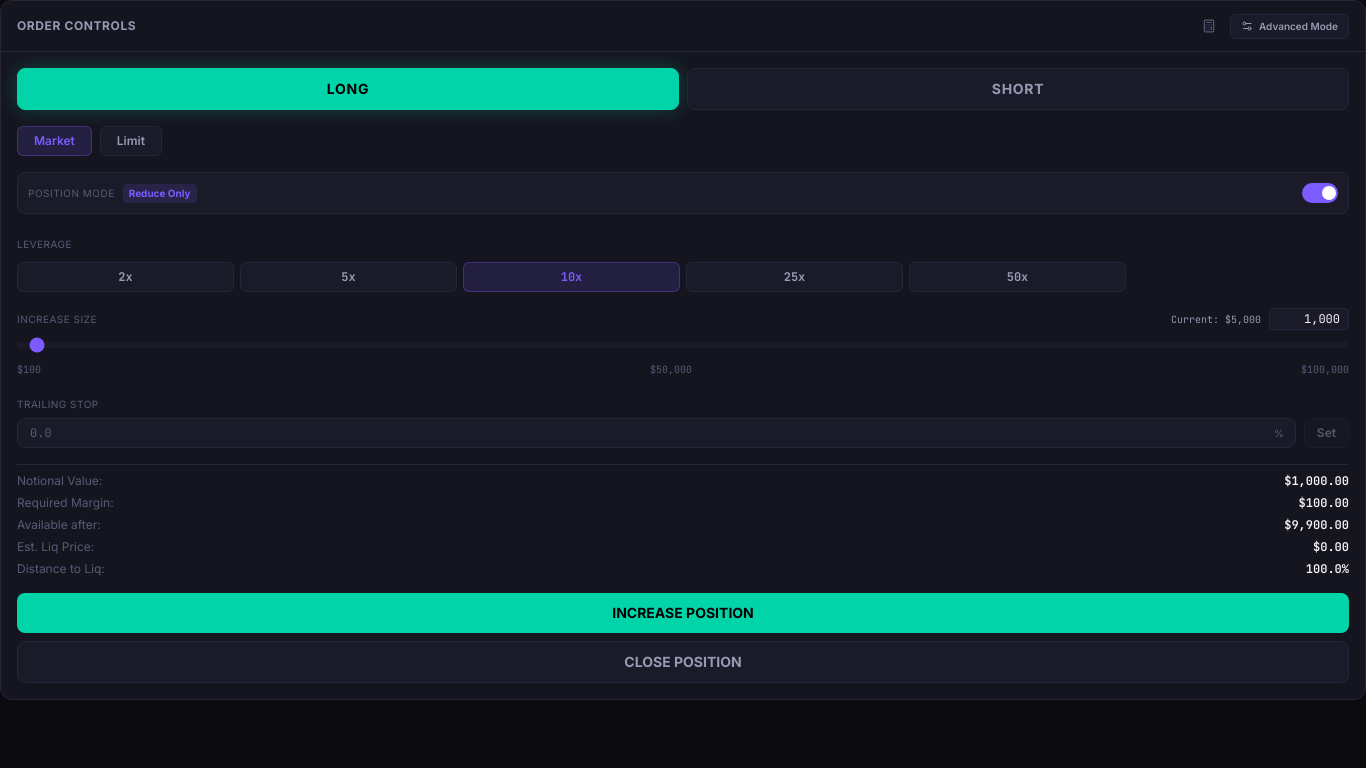
TradeControls — slider and position labels › manual size input updates position size and slider
Replace the text in the field with test id "trade-controls-size-input" with "2500" at point(1309, 319), box [1269,308,1349,330]
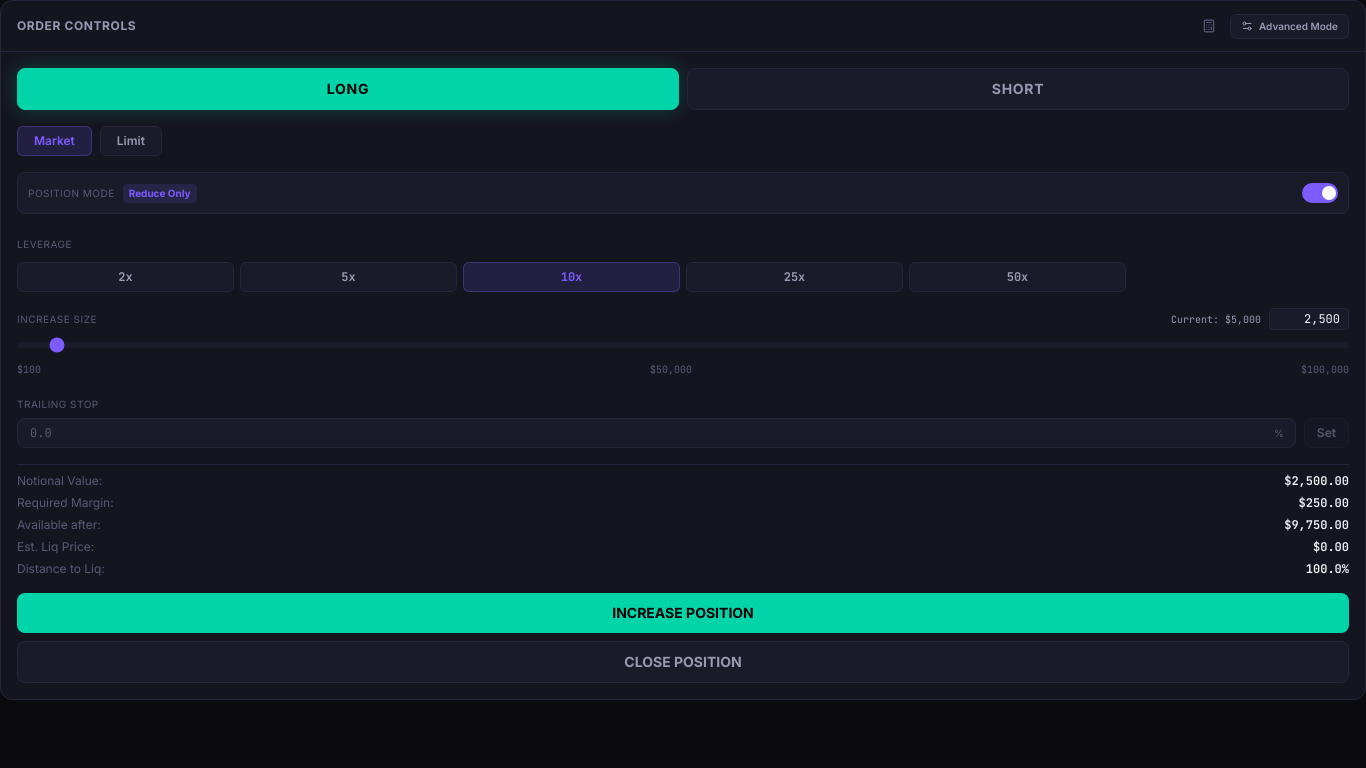
expect the slider holds "2500": met, box [17,342,1349,348]
